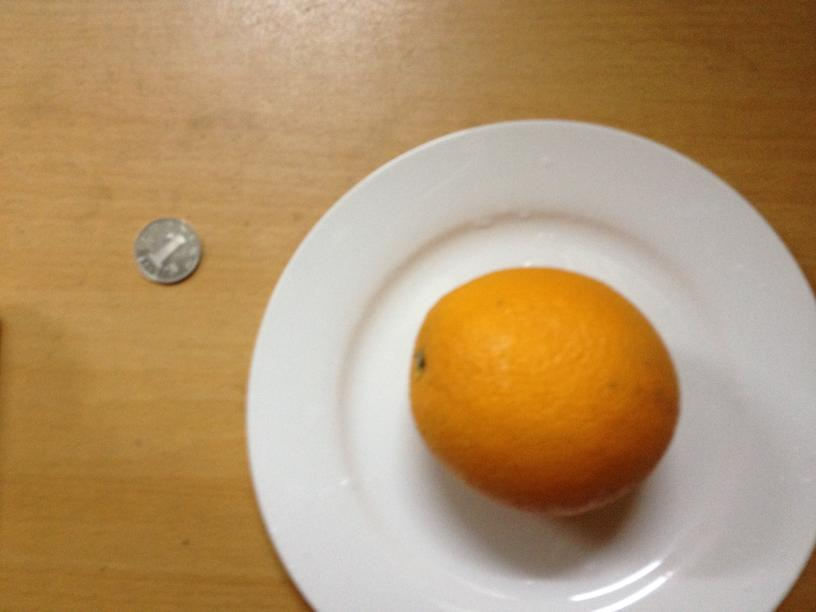coin: (133, 218, 202, 283)
orange: (409, 267, 681, 513)
